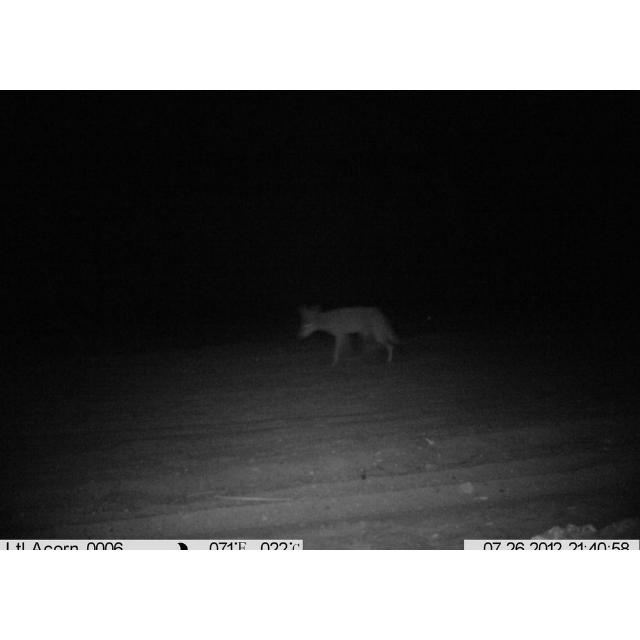animals: (299, 303, 405, 372)
